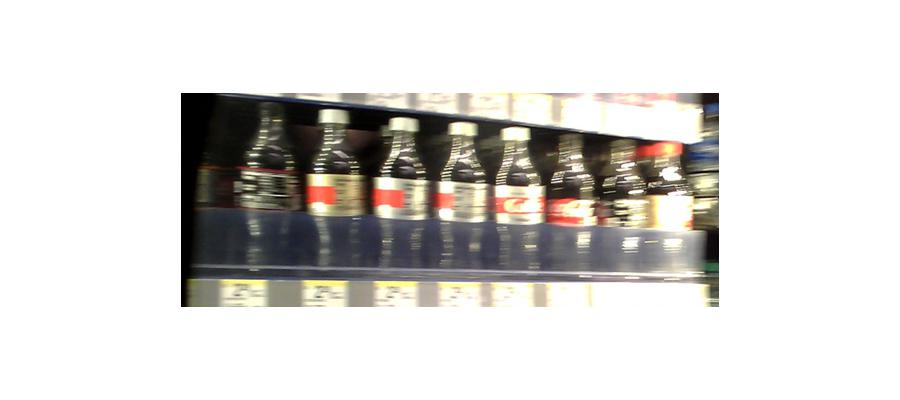bottle: (239, 98, 300, 274), (308, 106, 370, 271), (374, 113, 432, 271), (436, 120, 489, 272), (493, 124, 543, 276), (548, 151, 593, 279)
